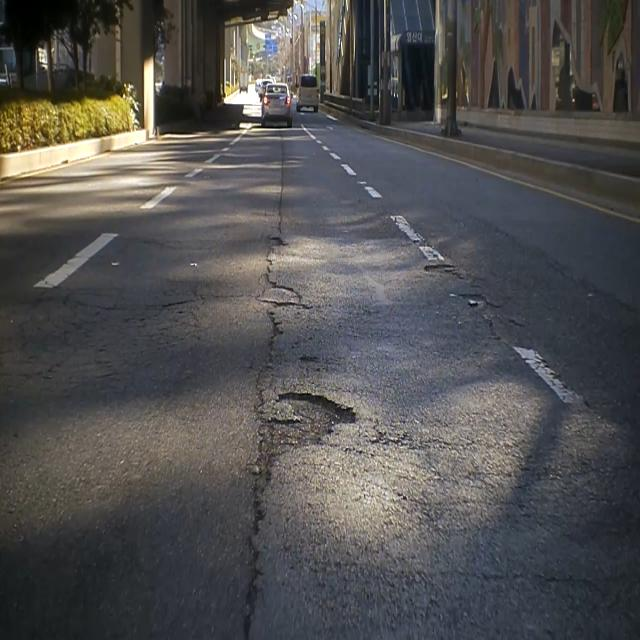Pothole: (252, 384, 363, 476), (464, 294, 508, 364), (415, 250, 467, 285)
